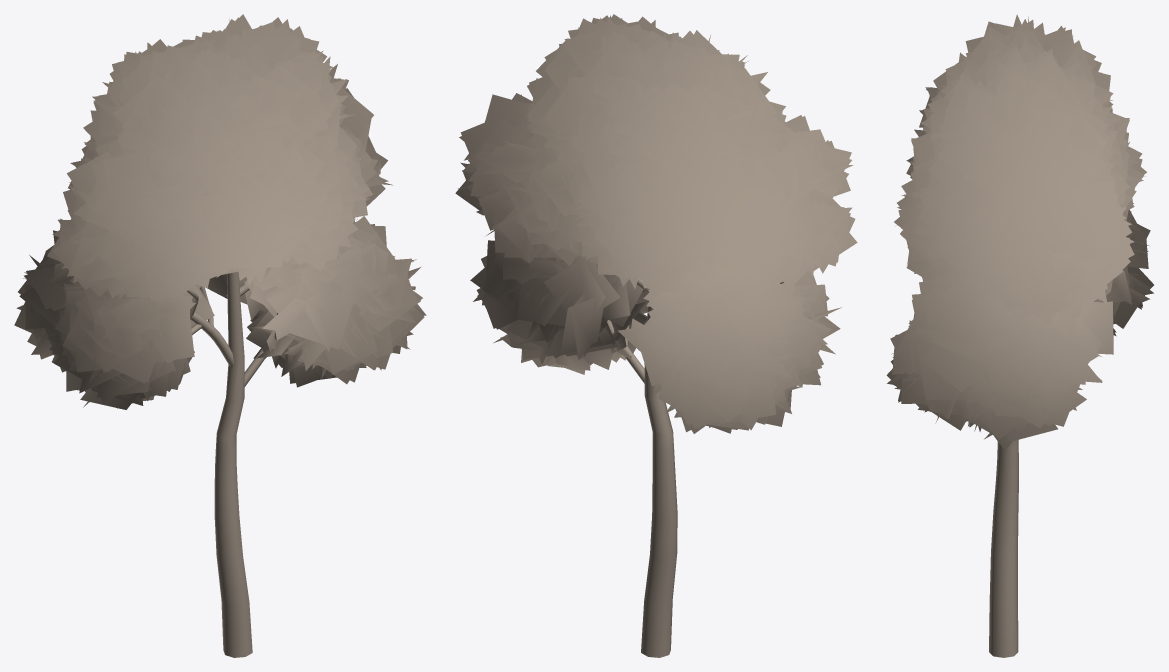
The model's file is NormalTree_1.glb.
3 views of the same model, side by side, from view 1: azimuth 30°, elevation 25°; view 2: azimuth 150°, elevation 25°; view 3: azimuth 270°, elevation 25° (orthographic). The views are drawn at different scales.
Parts seen in each view (by area): view 1: NormalTree_Leaves, NormalTree_Bark; view 2: NormalTree_Leaves, NormalTree_Bark; view 3: NormalTree_Leaves, NormalTree_Bark.
Part boxes in pixels (x1=…): NormalTree_Leaves: x1=14, y1=14, x2=426, y2=409; NormalTree_Bark: x1=184, y1=271, x2=277, y2=657; NormalTree_Leaves: x1=455, y1=14, x2=857, y2=433; NormalTree_Bark: x1=607, y1=278, x2=783, y2=657; NormalTree_Leaves: x1=886, y1=14, x2=1153, y2=450; NormalTree_Bark: x1=989, y1=440, x2=1018, y2=657.
Bounding box in the file's own units: 4.05 × 6.87 × 2.74.
